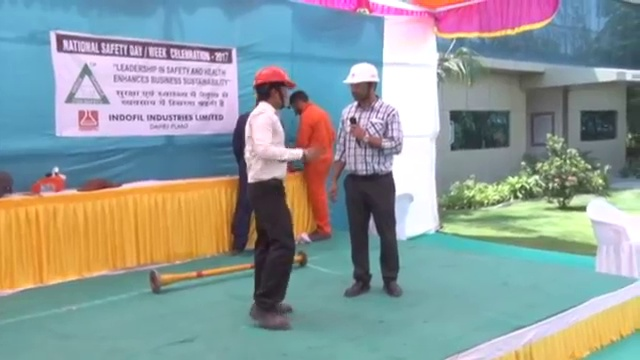helmet: (252, 66, 298, 88), (342, 61, 381, 84)
helmet_off: (288, 88, 311, 115)
helmet_on: (252, 65, 296, 112), (342, 60, 381, 108)
person: (243, 65, 313, 330), (328, 61, 404, 298), (288, 86, 333, 240)
